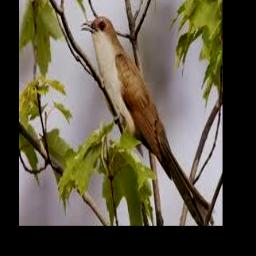Cuckoo: (80, 16, 215, 226)
